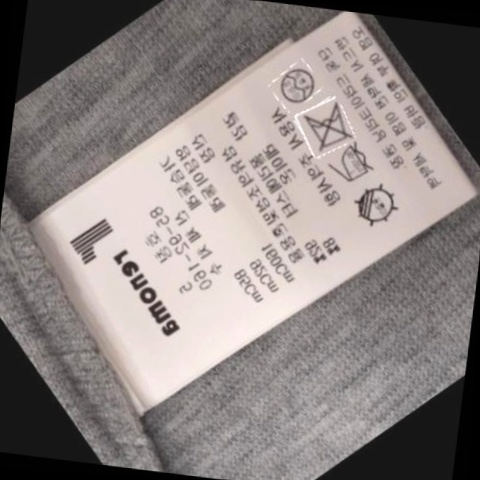DN_wash: (297, 102, 353, 151)
dry_clean_petrol_only: (274, 62, 318, 105)
iron_low: (328, 144, 377, 187)
line_dry_in_shade: (346, 183, 400, 228)
